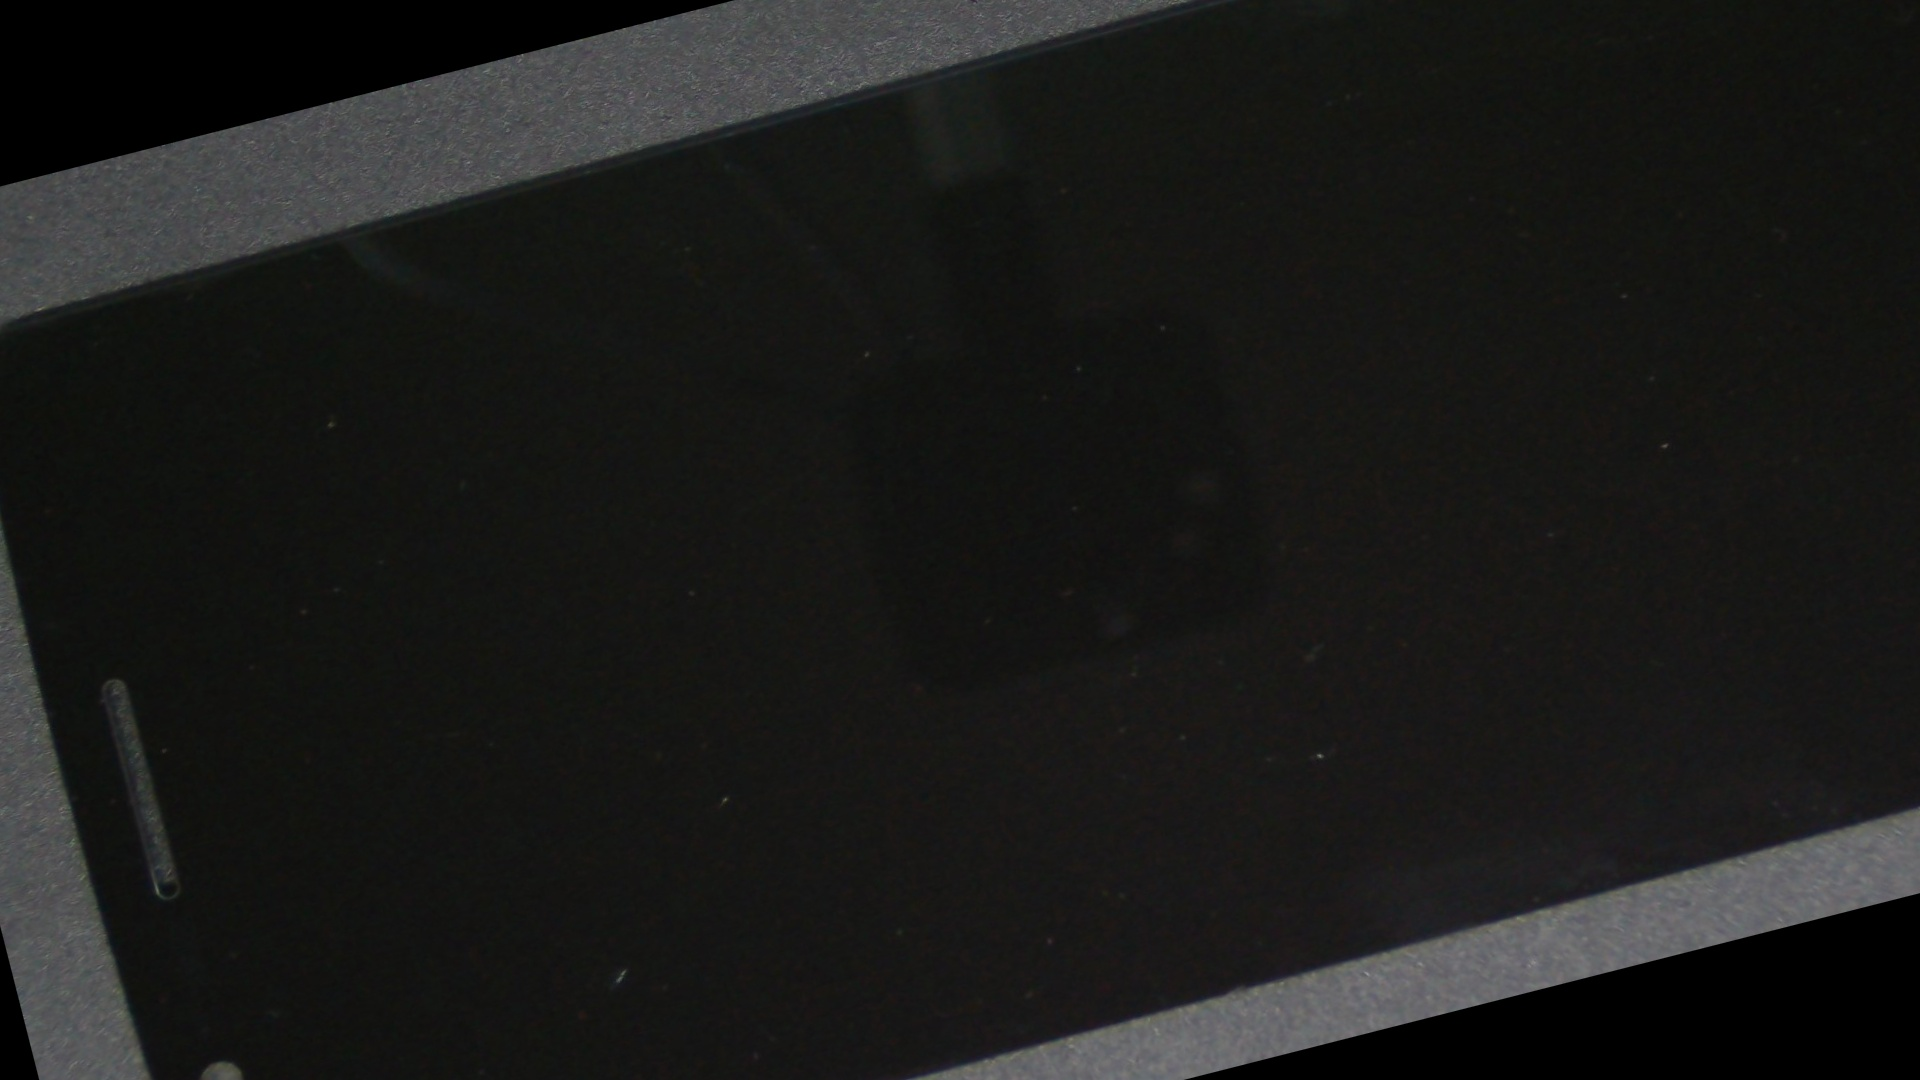oil: (891, 26, 1920, 1019)
